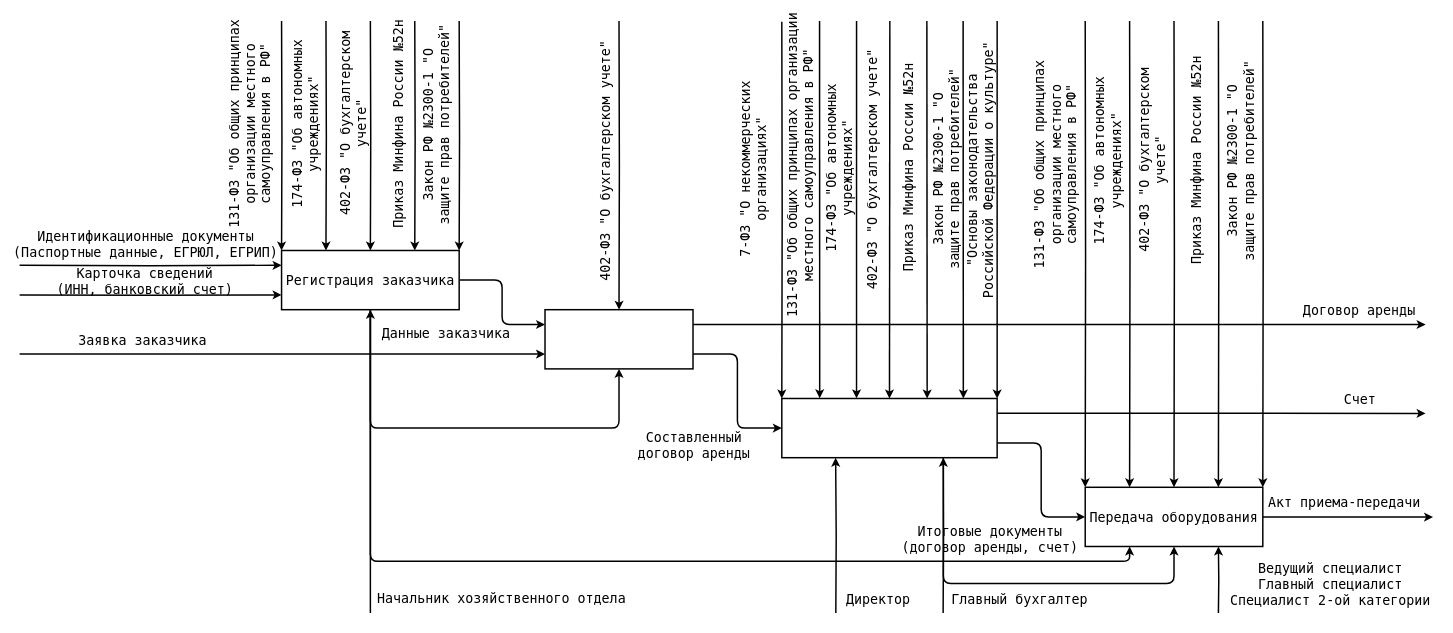
The diagram is 1453 pixels wide and 633 high, and some of its shapes have lost their labels. The centre of each missing label's shape, as x and y in pixels:
Выбор оборудования: (x=618, y=339)
Оформление документов: (x=889, y=427)
